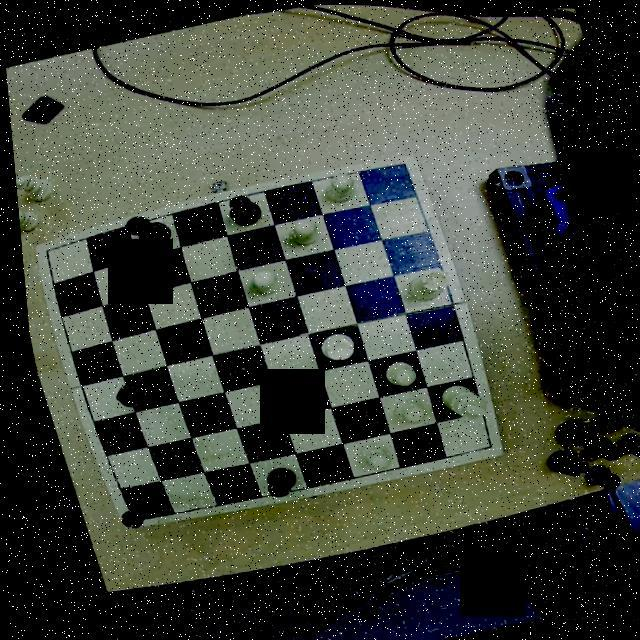chess-table-corners: (385, 152, 415, 179), (466, 428, 496, 454), (28, 242, 56, 266), (110, 507, 142, 528)
